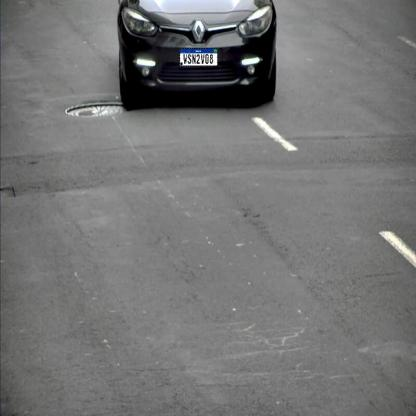PlacaM: (179, 48, 218, 66)
